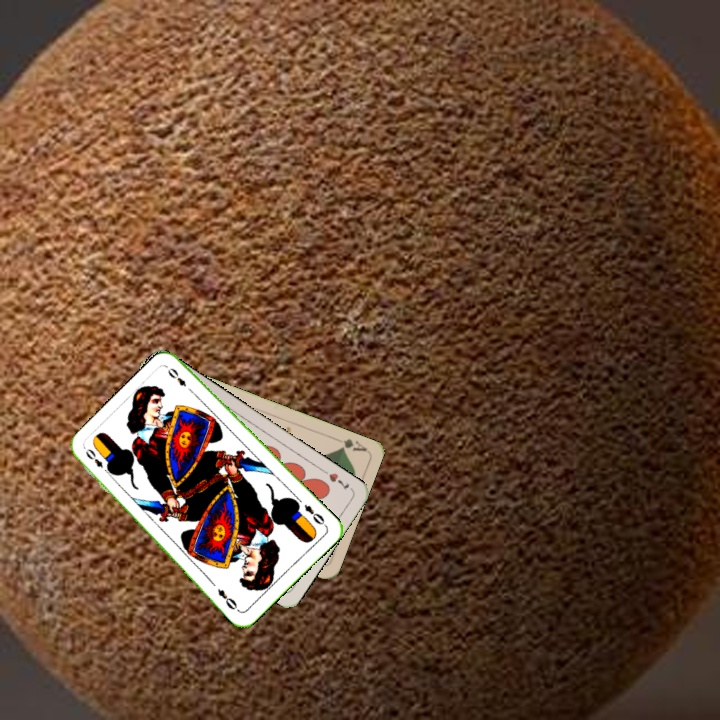EO: (300, 500, 329, 529), (82, 445, 106, 471)
GA: (329, 434, 369, 454)
H7: (318, 466, 352, 492)
